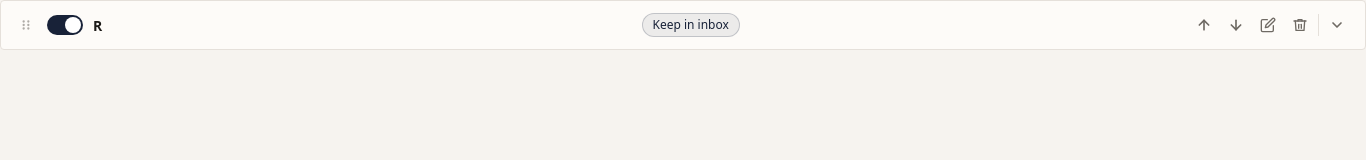
summarize helpers › Subject Contains
What coordinates should you click on to do the following:
click the button titled "Expand"
I would click on:
 (1337, 25)
Its box is [1323, 11, 1351, 39].
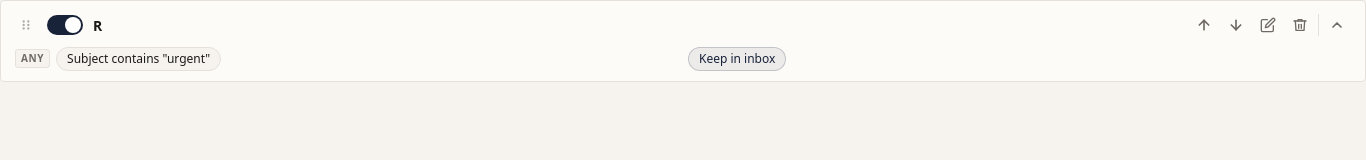
Now the text "Subject contains \"urgent\"" is shown, box [56, 47, 221, 71]
